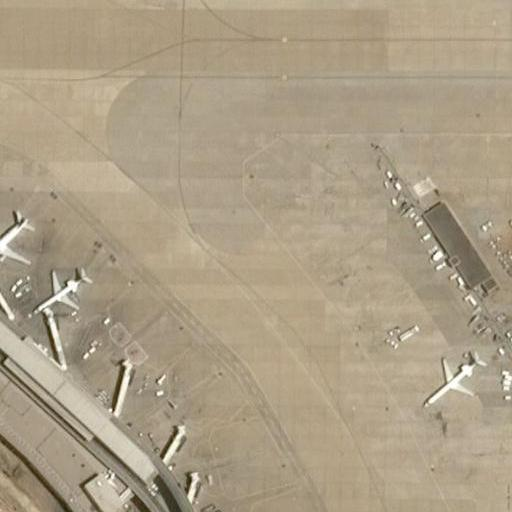Aircraft: (421, 349, 489, 410), (34, 265, 92, 314), (0, 207, 32, 270)
